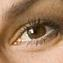eye: (27, 26, 46, 39)
